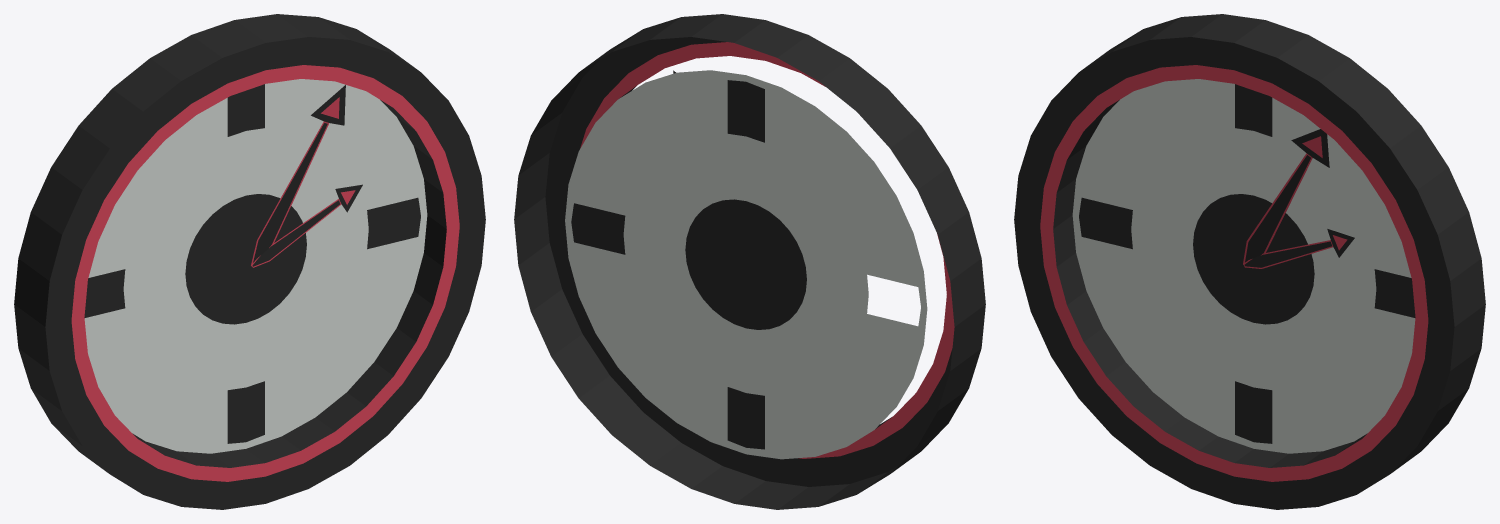
File: Horloge2.fbx
The picture shows the model from 3 angles, left to right: view 1: azimuth 30°, elevation 25°; view 2: azimuth 150°, elevation 25°; view 3: azimuth 330°, elevation 25°; orthographic projection.
Visible parts, largest first — view 1: Horloge.007; view 2: Horloge.007; view 3: Horloge.007.
Boxes of the visible parts, x1,y1,x2,y2 form: Horloge.007: (14, 14, 485, 509); Horloge.007: (514, 14, 985, 509); Horloge.007: (1014, 14, 1485, 509).
Size of the model in its own units: 129 by 1051 by 1051.
